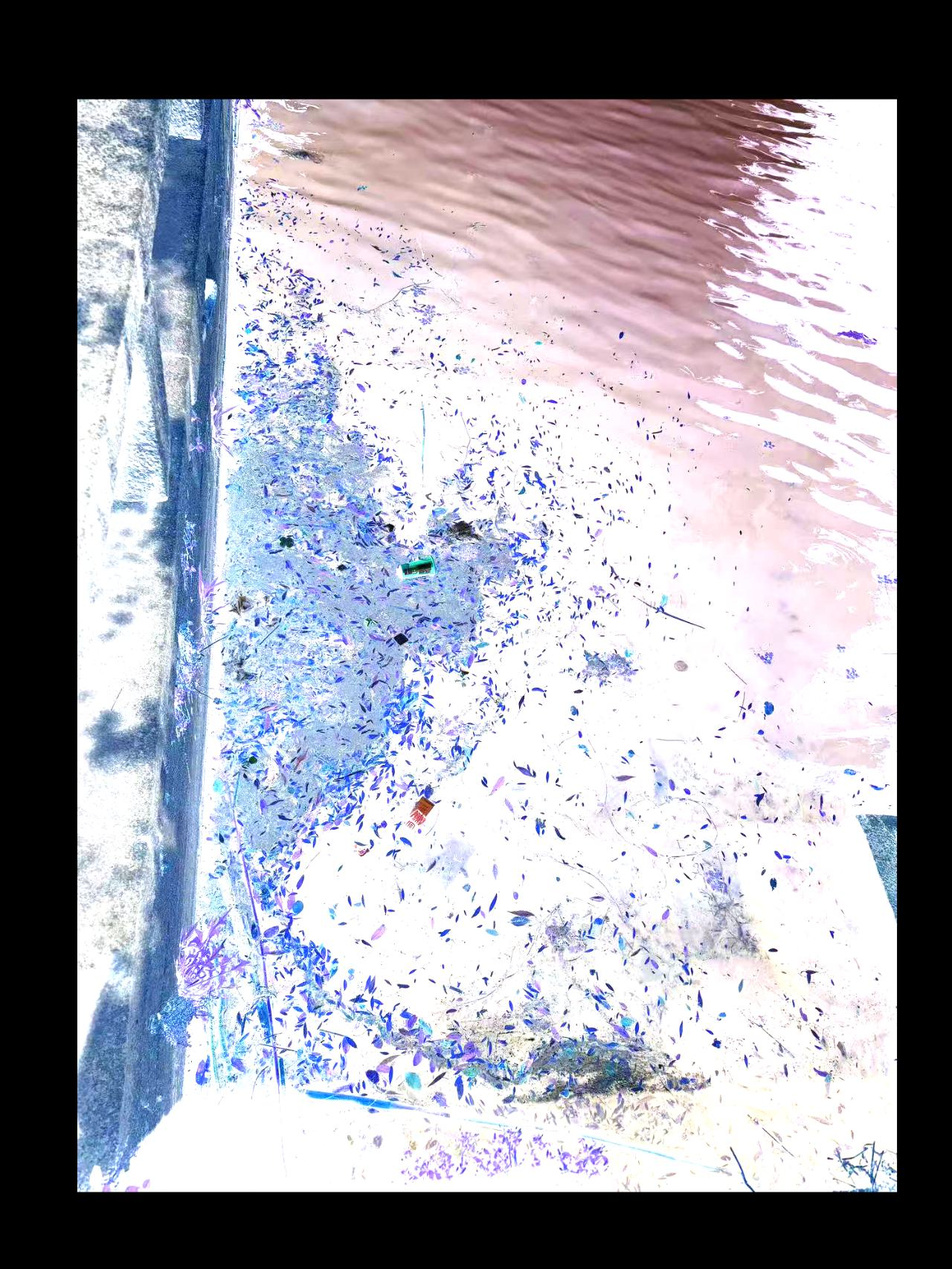Natural wastes: (275, 933, 335, 1005), (392, 1031, 492, 1069)
Other: (228, 364, 386, 582), (260, 586, 388, 802), (532, 1046, 698, 1100), (210, 778, 298, 853), (577, 649, 636, 682)
Plastic wastes: (221, 656, 255, 682), (399, 556, 439, 578), (405, 798, 433, 829), (446, 523, 484, 543), (228, 594, 251, 615), (351, 844, 371, 856), (393, 631, 408, 646), (672, 659, 687, 671), (383, 521, 396, 531), (338, 564, 347, 571), (248, 756, 257, 763)
